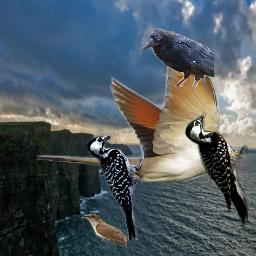Crow: (141, 27, 214, 87)
Cuckoo: (36, 36, 245, 182), (81, 214, 127, 248)
Woodpecker: (184, 111, 248, 230), (86, 132, 142, 240)
